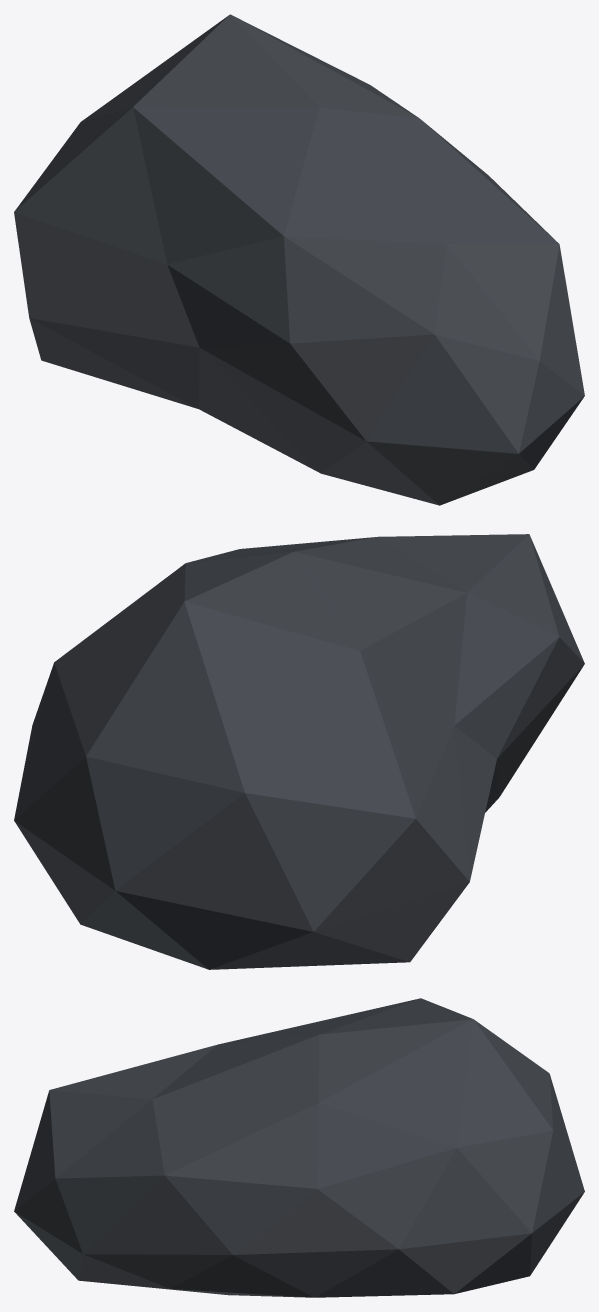
Rendered from rock_1.fbx.
3 renders of one model, top to bottom at view 1: azimuth 30°, elevation 25°; view 2: azimuth 150°, elevation 25°; view 3: azimuth 270°, elevation 25°, orthographic. The views are drawn at different scales.
Visible parts, largest first — view 1: rock_1; view 2: rock_1; view 3: rock_1.
Boxes of the visible parts, box(x1,y1,x2,y2) form: rock_1: box(14, 14, 584, 505); rock_1: box(14, 534, 584, 969); rock_1: box(14, 998, 584, 1297).
Bounding box in the file's own units: 150 × 101 × 218.
Materials: 1 (1 with a texture image).
